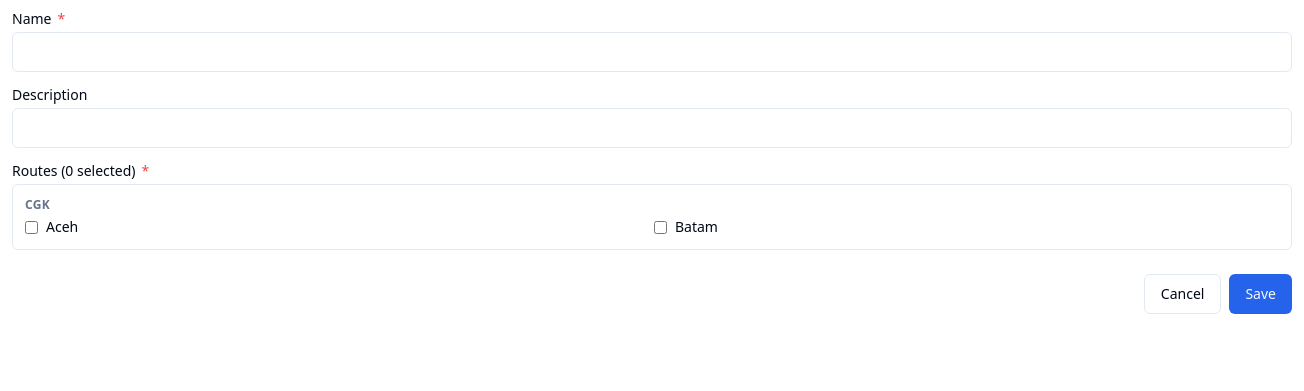
rejects submission when no route is selected
The image size is (1304, 391).
Type "Test Group" into the field labelled "Name *".
click(652, 52); type("Test Group")  # box left=12, top=32, right=1292, bottom=72
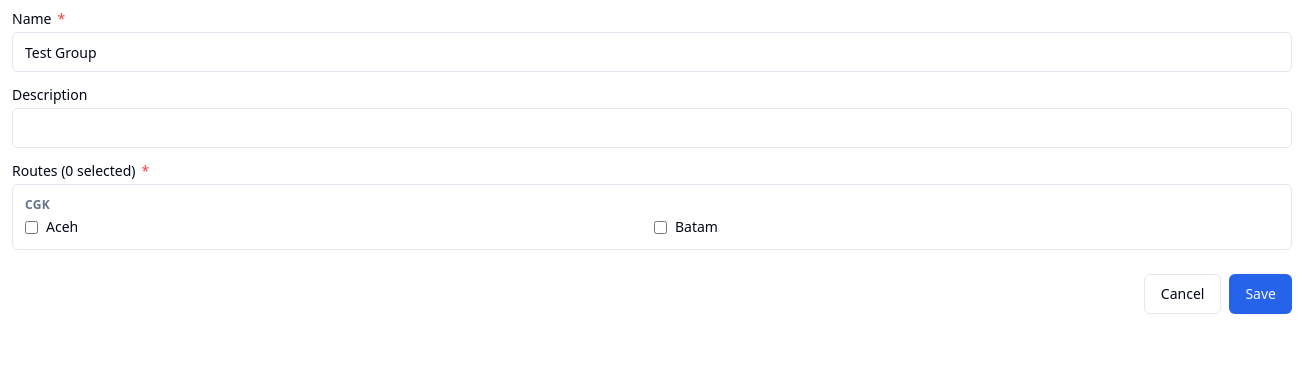
Click the button "Save".
click(1261, 294)  # box left=1229, top=274, right=1292, bottom=314
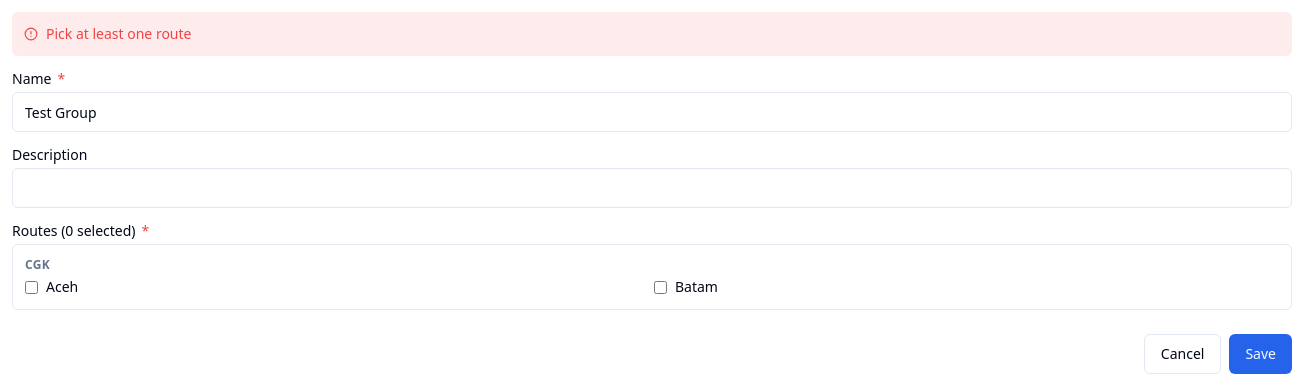
expect the text "Pick at least one route" is shown: met, box left=12, top=12, right=1292, bottom=56
